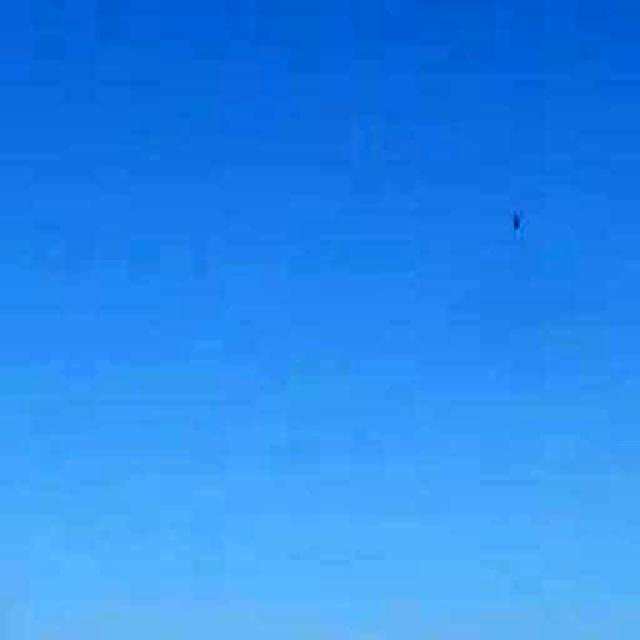drone: (486, 184, 548, 258)
